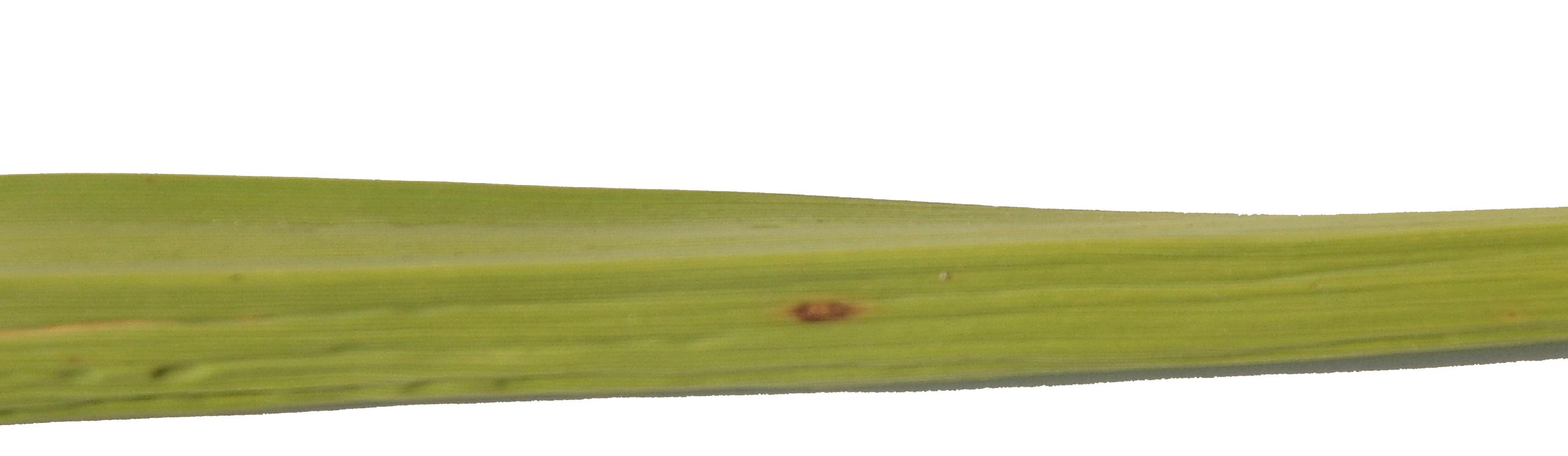Brown spot: (789, 291, 860, 329)
